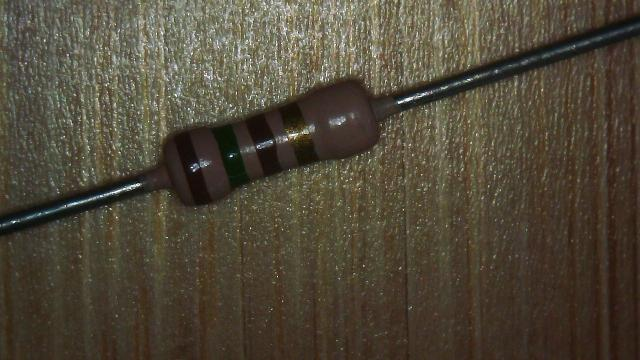brown: (174, 132, 208, 205), (248, 114, 280, 175)
gold: (280, 102, 316, 166)
green: (215, 124, 248, 190)
resistor: (128, 37, 414, 233)
